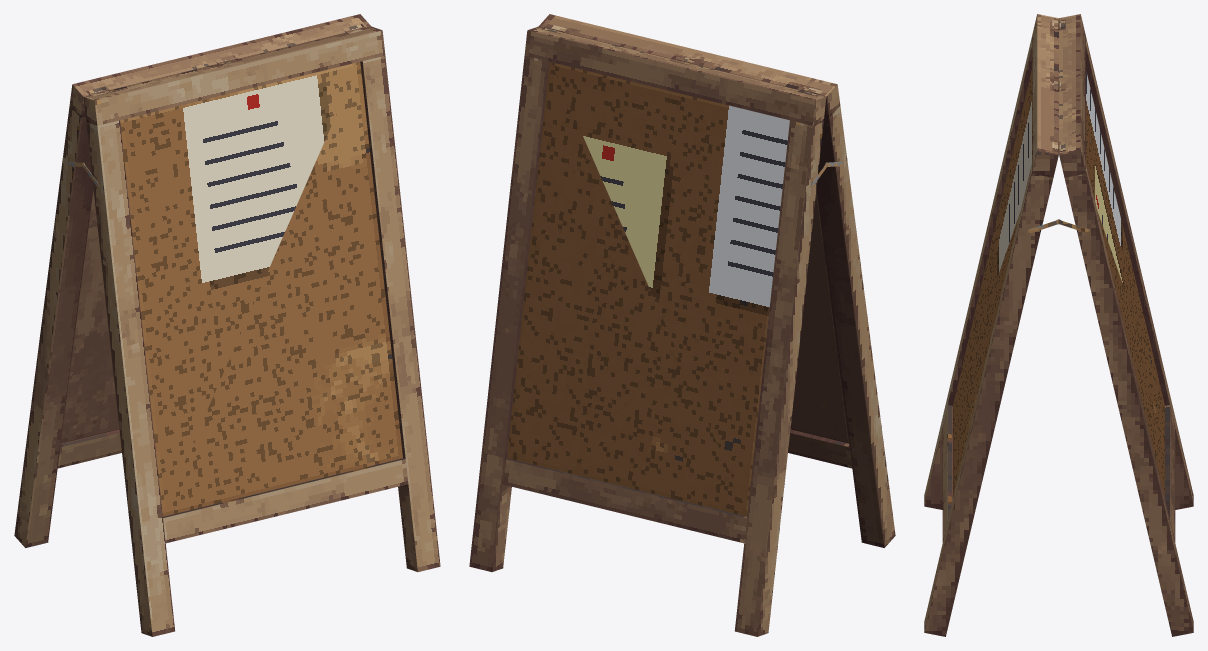
File: easel.glb
3 views of the same model, side by side, from view 1: azimuth 30°, elevation 25°; view 2: azimuth 150°, elevation 25°; view 3: azimuth 270°, elevation 25° (orthographic). The views are drawn at different scales.
Visible parts, largest first — view 1: chalkboard; view 2: chalkboard; view 3: chalkboard.
Boxes of the visible parts, x1,y1,x2,y2 form: chalkboard: (14,14,440,636); chalkboard: (469,14,895,636); chalkboard: (924,14,1193,636).
Bounding box in the file's own units: 0.7426 × 1.22 × 0.6127.
1 material, 1 textured.
